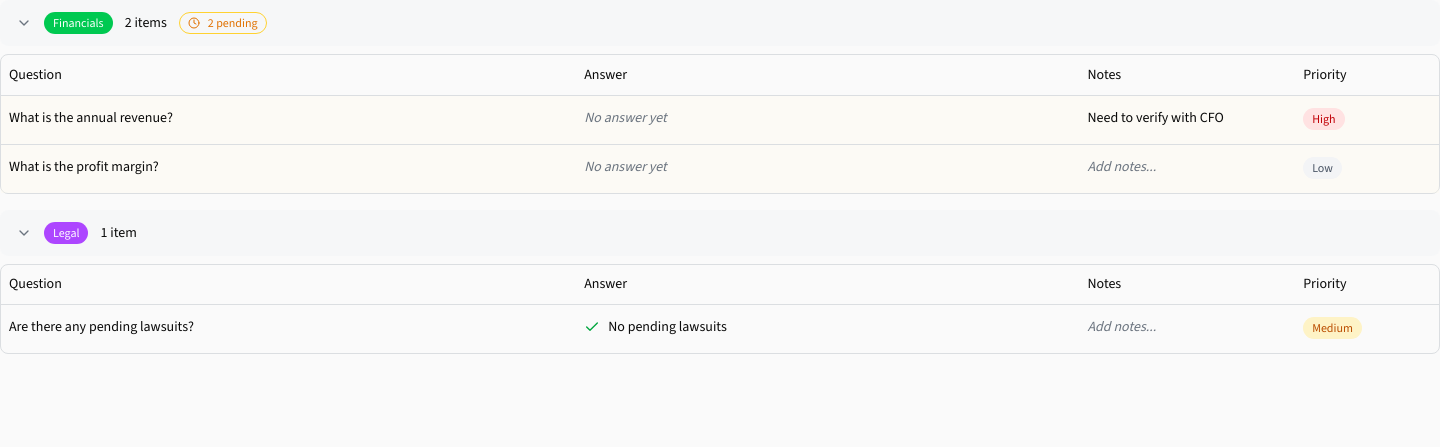
QATable › inline editing (AC3) › should exit edit mode when cancelled
What coordinates should you click on to do the following:
click the text "What is the annual revenue?"
I would click on:
 (91, 118)
Its box is [9, 108, 173, 128].
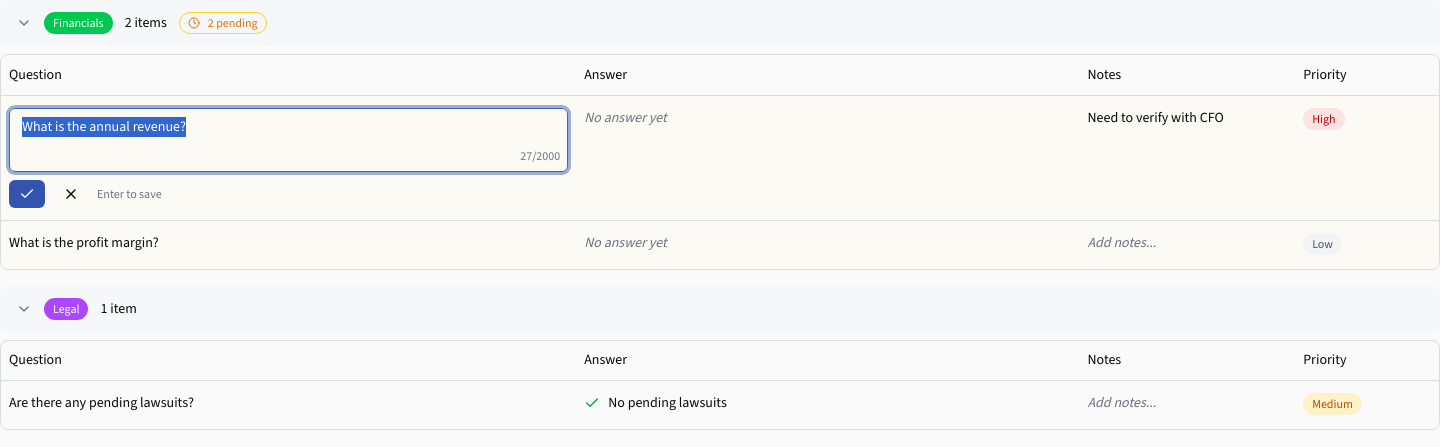
Check: the text box is shown, box [9, 108, 568, 172]
Note: Click cancel
What coordinates should you click on to do the following:
click the button named "cancel"
I would click on:
 (71, 194)
Its box is [53, 180, 89, 208].
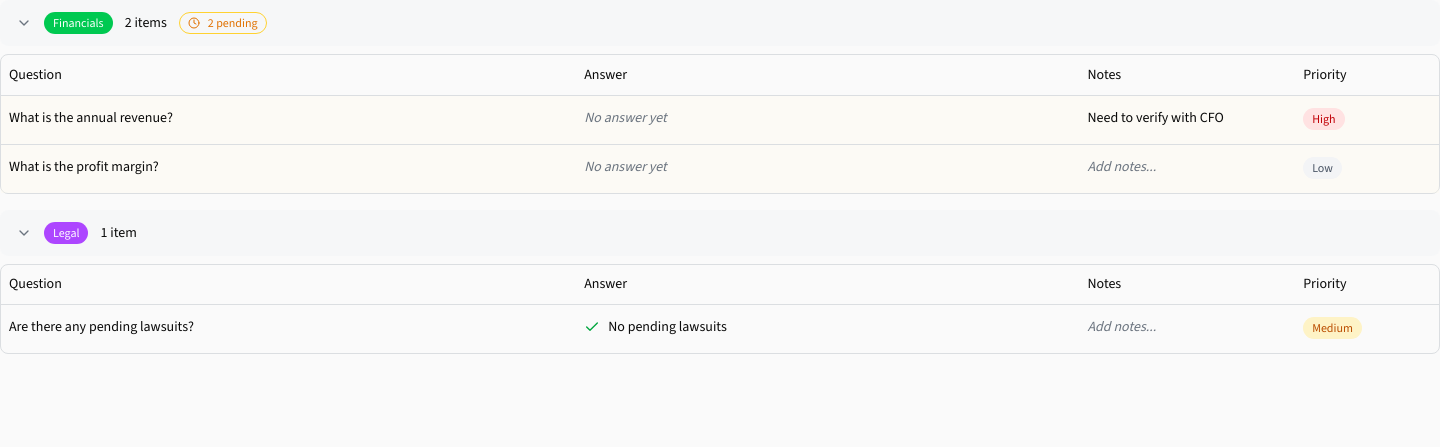
Check: the text "What is the annual revenue?" is shown, box [9, 108, 173, 128]
